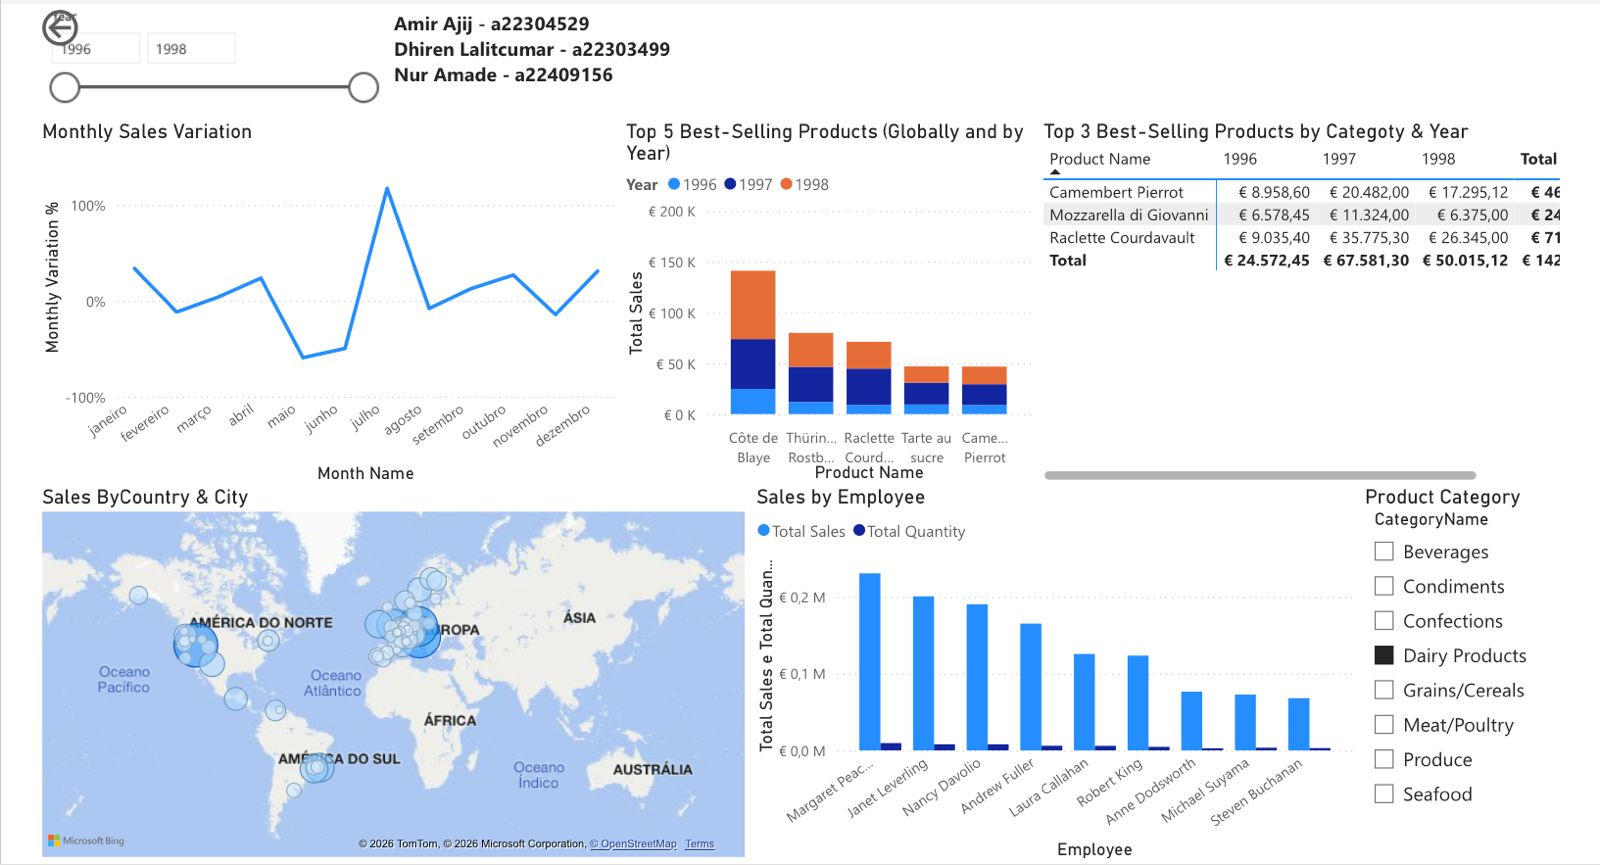

The dashboard page shown, as its layout file describes it:
{"tool":"powerbi","page":{"name":"Sales Report 2","canvas":[1280,720],"ordinal":1},"visuals":[{"type":"slicer","fields":{"Values":["Dim_Date.Year"]},"box":[0,0,294.6,99.4],"z":0},{"type":"textbox","box":[294.6,0,523,99.4],"z":1000},{"type":"lineChart","title":"Monthly Sales Variation","fields":{"Category":["Dim_Date.MonthName"],"Y":["Fact_Orders.Variação Mensal %"]},"box":[0,99.1,488.9,306],"z":2000},{"type":"map","title":"Sales ByCountry & City","fields":{"Size":["Fact_Orders.Quantidade Total"],"Category":["Dim_Customer.Geography.Country","Dim_Customer.Geography.City"]},"box":[0,405.2,597.7,314.7],"z":3000},{"type":"columnChart","title":"Top 5 Best-Selling Products (Globally and by Year)","fields":{"Y":["Fact_Orders.Total Sales"],"Category":["Dim_Product.ProductName"],"Series":["Dim_Date.Calendar.Year"]},"box":[489,99.4,349.3,305.4],"z":4000},{"type":"actionButton","box":[0,0,100,40],"z":5000},{"type":"slicer","title":"Product Category","fields":{"Values":["Dim_Product.CategoryName"]},"box":[1107,405,173,315],"z":6000},{"type":"pivotTable","title":"Top 3 Best-Selling Products by Categoty & Year","fields":{"Rows":["Dim_Product.ProductName"],"Columns":["Dim_Date.Calendar.Year"],"Values":["Fact_Orders.Total Sales"]},"box":[838.2,99.4,441.5,305.4],"z":7000},{"type":"lineClusteredColumnComboChart","title":"Sales by Employee","fields":{"Category":["Dim_Employee.Employee_Name"],"Y":["Fact_Orders.Total Sales","Fact_Orders.Quantidade Total"]},"box":[597.7,405.2,509.1,314.7],"z":8000}]}

Visuals, with their boxes on the page's 1280x720 design canvas (x1, y1, x2, y2). These are canvas units, not pixel positions in the 1600x865 screenshot, which may show the page scaled, cropped or inside an application window:
slicer - Dim_Date.Year: [x1=0, y1=0, x2=295, y2=99]
textbox: [x1=295, y1=0, x2=818, y2=99]
"Monthly Sales Variation" lineChart: [x1=0, y1=99, x2=489, y2=405]
"Sales ByCountry & City" map: [x1=0, y1=405, x2=598, y2=720]
"Top 5 Best-Selling Products (Globally and by Year)" columnChart: [x1=489, y1=99, x2=838, y2=405]
actionButton: [x1=0, y1=0, x2=100, y2=40]
"Product Category" slicer: [x1=1107, y1=405, x2=1280, y2=720]
"Top 3 Best-Selling Products by Categoty & Year" pivotTable: [x1=838, y1=99, x2=1280, y2=405]
"Sales by Employee" lineClusteredColumnComboChart: [x1=598, y1=405, x2=1107, y2=720]
